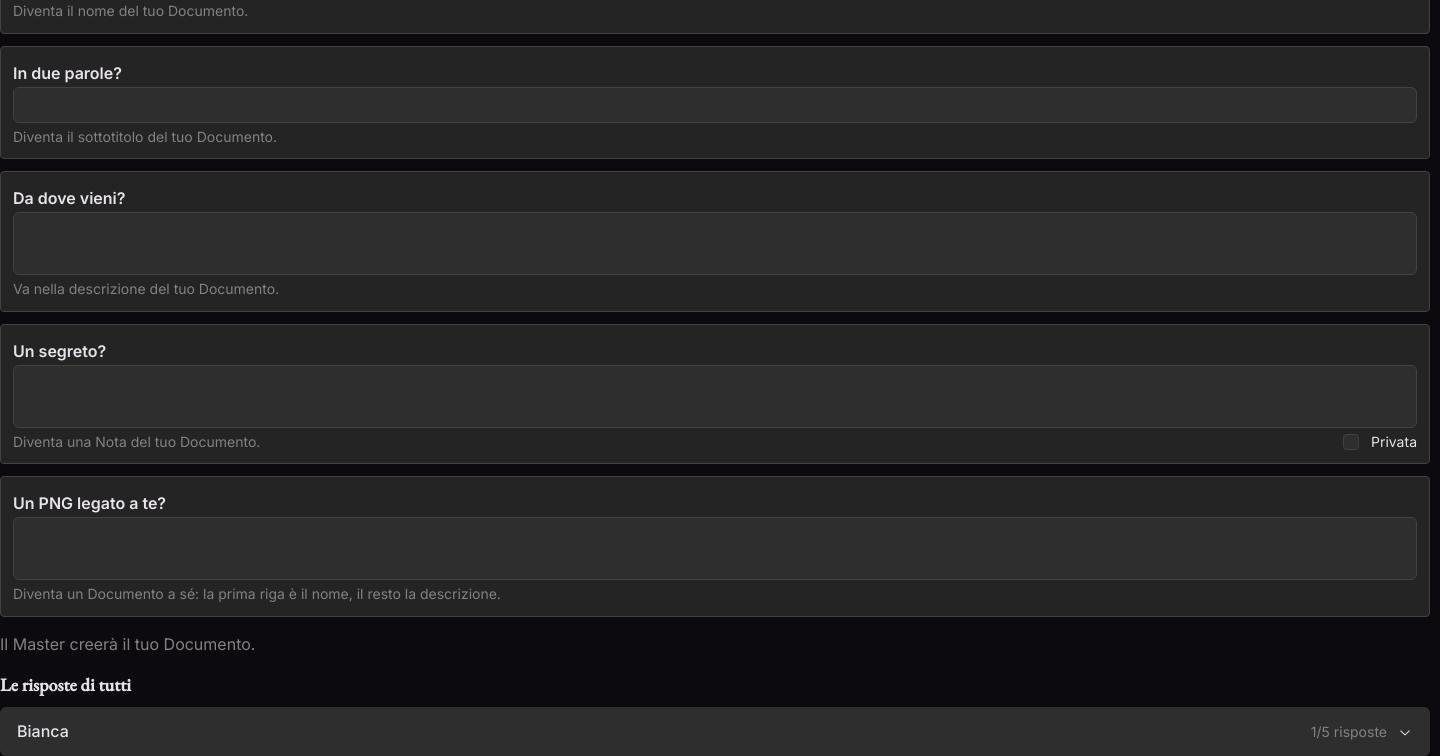
QuestionsBoard for a Player › shows the other Players' answers once the Master reveals them
(page scrolled)
Check: the heading "Le risposte di tutti" is shown, box x1=0 y1=673 x2=131 y2=696
Click the button "Bianca 1/5 risposte" at (43, 731), box x1=1 y1=708 x2=1429 y2=755
(page scrolled)
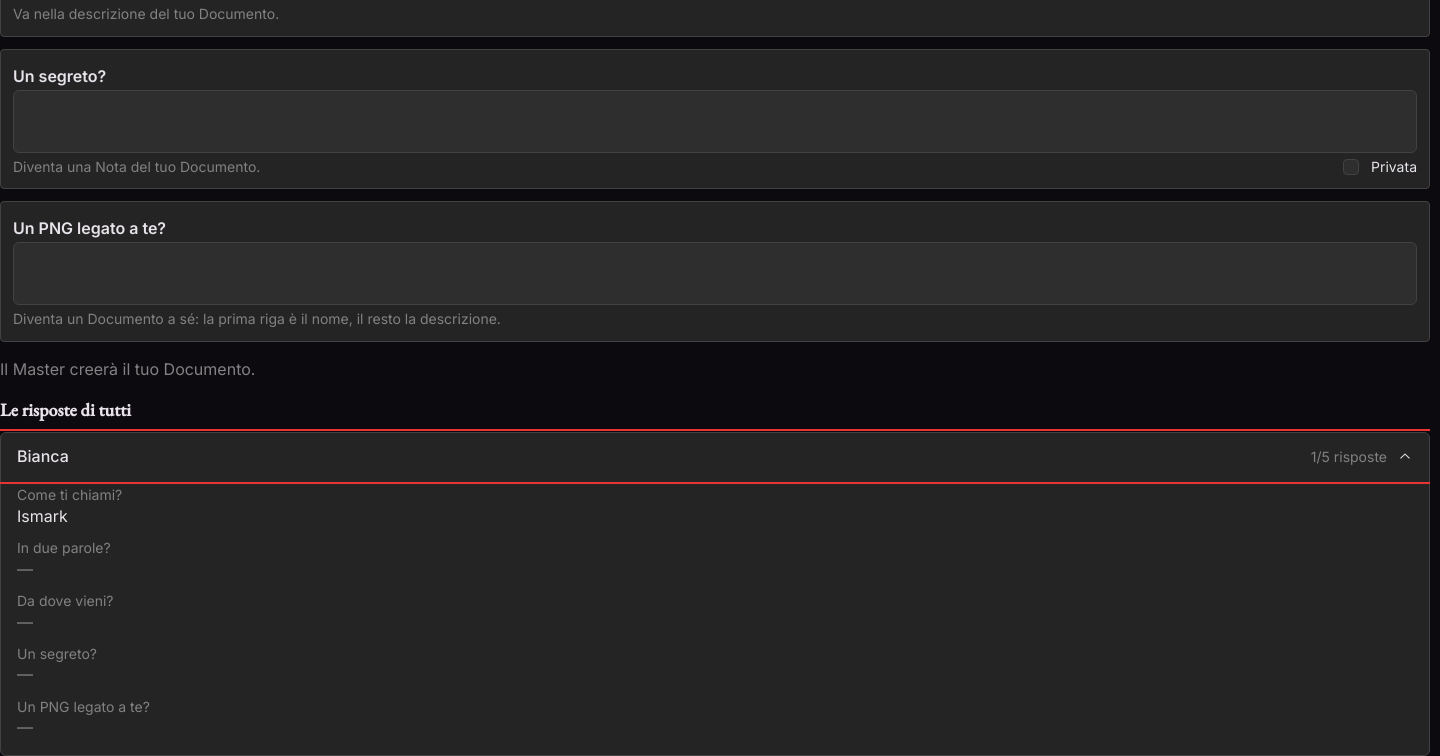
Check: the text "Ismark" is shown, box x1=17 y1=506 x2=68 y2=526
